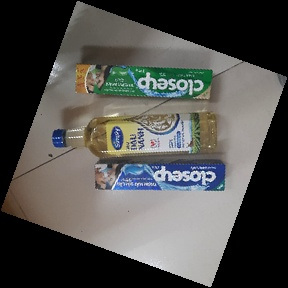CloseUp Tuyet: (91, 157, 227, 195)
CloseUp Xanh: (73, 61, 213, 101)
Simply: (51, 111, 219, 157)
